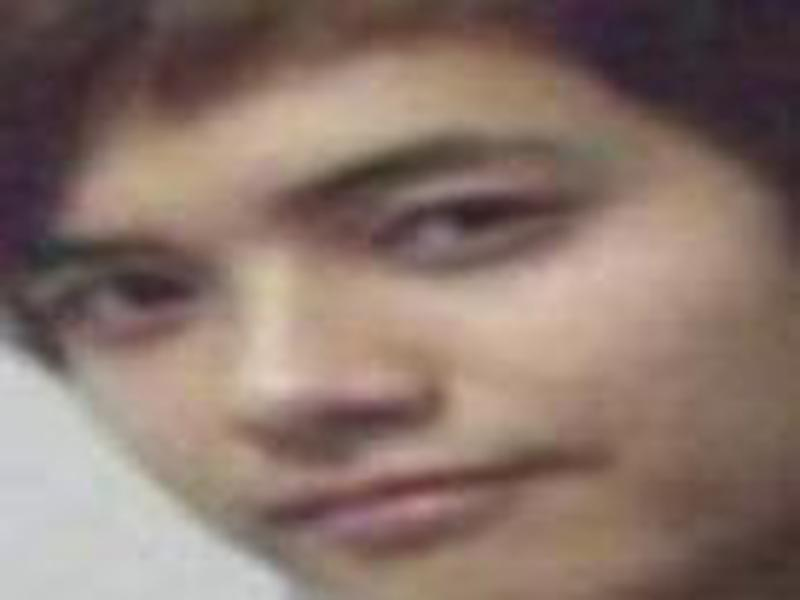without_mask: (12, 53, 765, 600)
